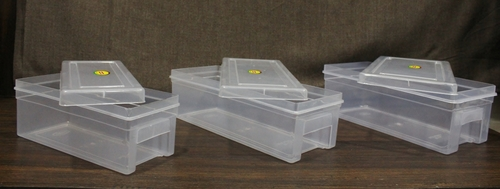PlasticBox: (10, 57, 182, 178)
